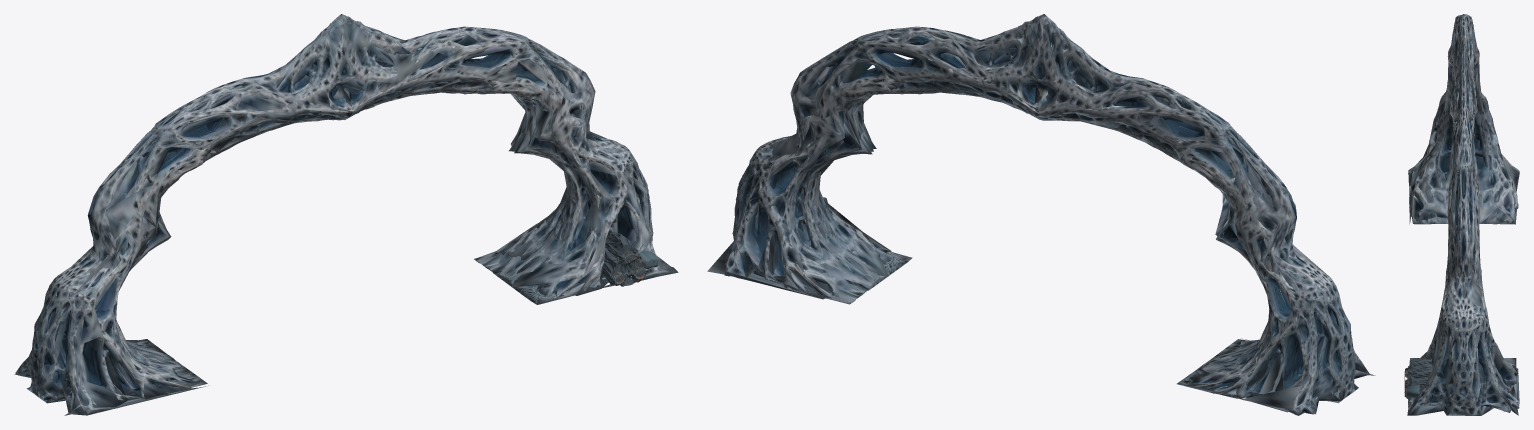
Rendered from terrasa-vrat-v16.glb.
The picture shows the model from 3 angles, left to right: view 1: azimuth 30°, elevation 25°; view 2: azimuth 150°, elevation 25°; view 3: azimuth 270°, elevation 25°; orthographic projection. The views are drawn at different scales.
Visible parts, largest first — view 1: LOD0_Mineral, LOD2_Mineral, LOD1_Mineral; view 2: LOD0_Mineral, LOD1_Mineral, LOD2_Mineral; view 3: LOD0_Mineral, LOD1_Mineral, LOD2_Mineral.
Boxes of the visible parts, x1,y1,x2,y2 form: LOD0_Mineral: (14, 14, 660, 415); LOD2_Mineral: (29, 14, 678, 415); LOD1_Mineral: (15, 14, 673, 413); LOD0_Mineral: (724, 14, 1375, 414); LOD1_Mineral: (723, 14, 1369, 415); LOD2_Mineral: (707, 16, 1367, 410); LOD0_Mineral: (1405, 14, 1519, 415); LOD1_Mineral: (1404, 14, 1519, 415); LOD2_Mineral: (1406, 17, 1519, 415).
Size of the model in its own units: 121 by 58.14 by 23.52.
3 materials, 1 textured.
